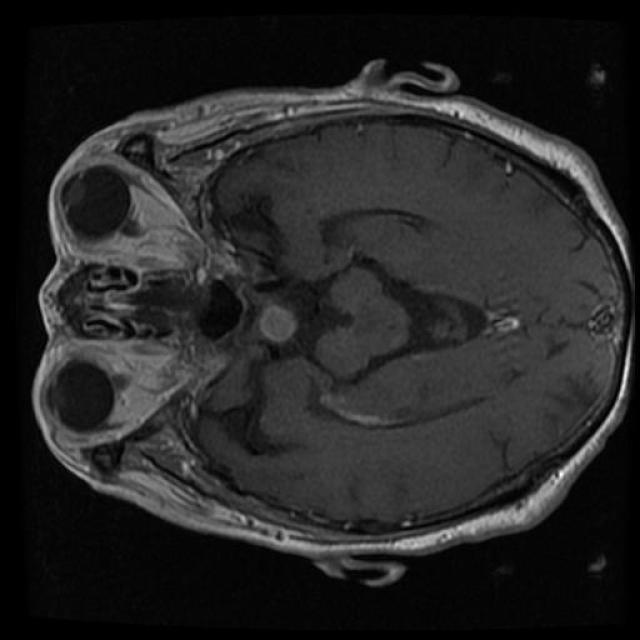Pituitary: (219, 276, 338, 360)
